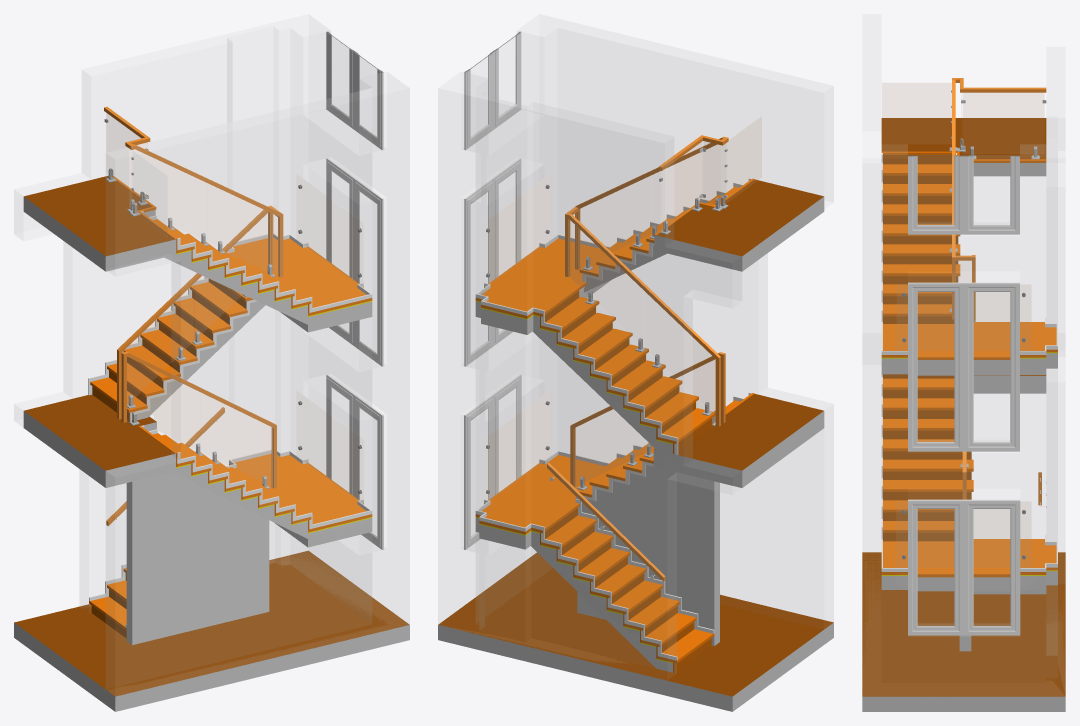
The model's file is 3D Сборка 1.obj.
3 renders of one model, left to right at view 1: azimuth 30°, elevation 25°; view 2: azimuth 150°, elevation 25°; view 3: azimuth 270°, elevation 25°, orthographic.
Bounding box in the file's own units: 4.42 × 7.92 × 2.63.
